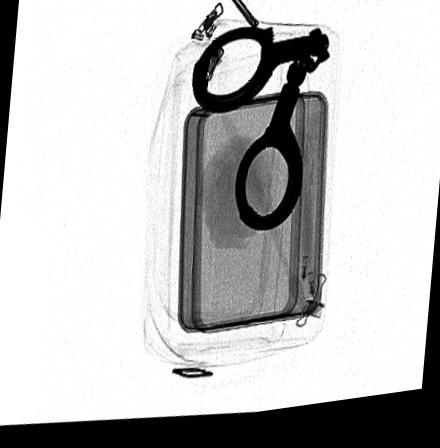HandCuffs: (190, 33, 329, 239)
